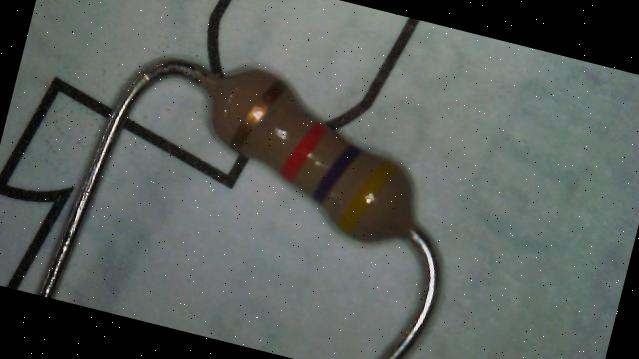gold: (229, 72, 285, 156)
orange: (276, 115, 326, 185)
resistor: (190, 36, 457, 263)
violet: (310, 136, 362, 208)
yellow: (334, 151, 397, 240)
